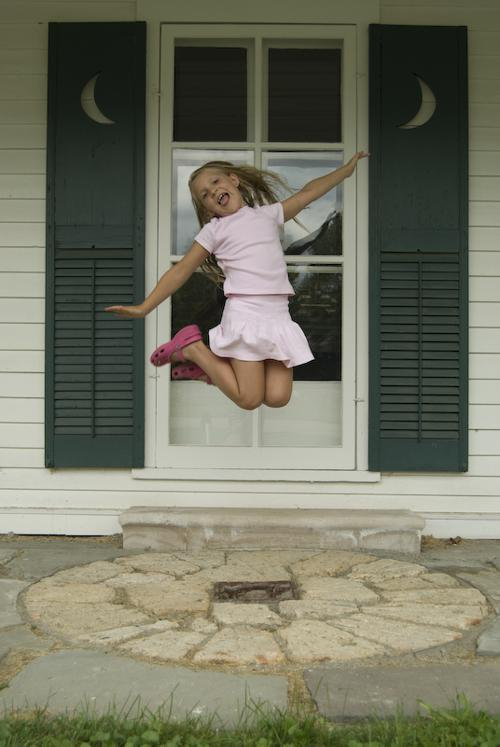person: (104, 152, 368, 414)
